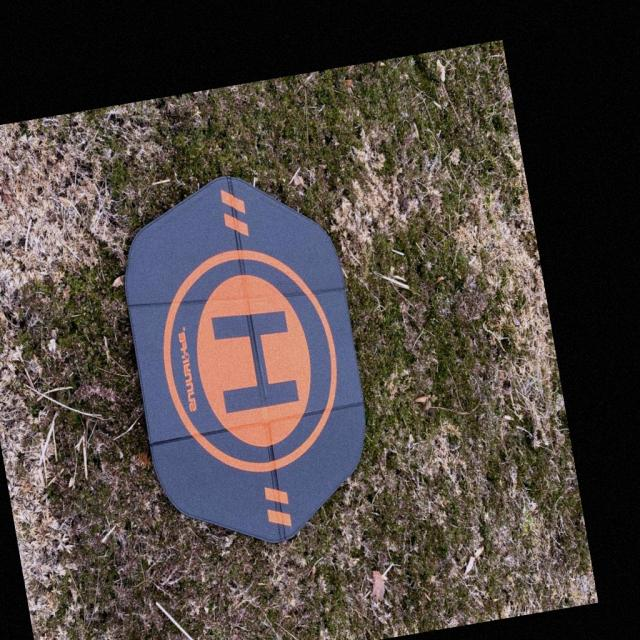helipad: (160, 246, 341, 473)
